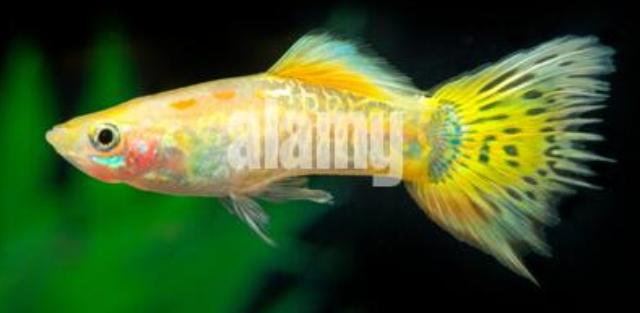Mulut: (25, 104, 79, 164)
